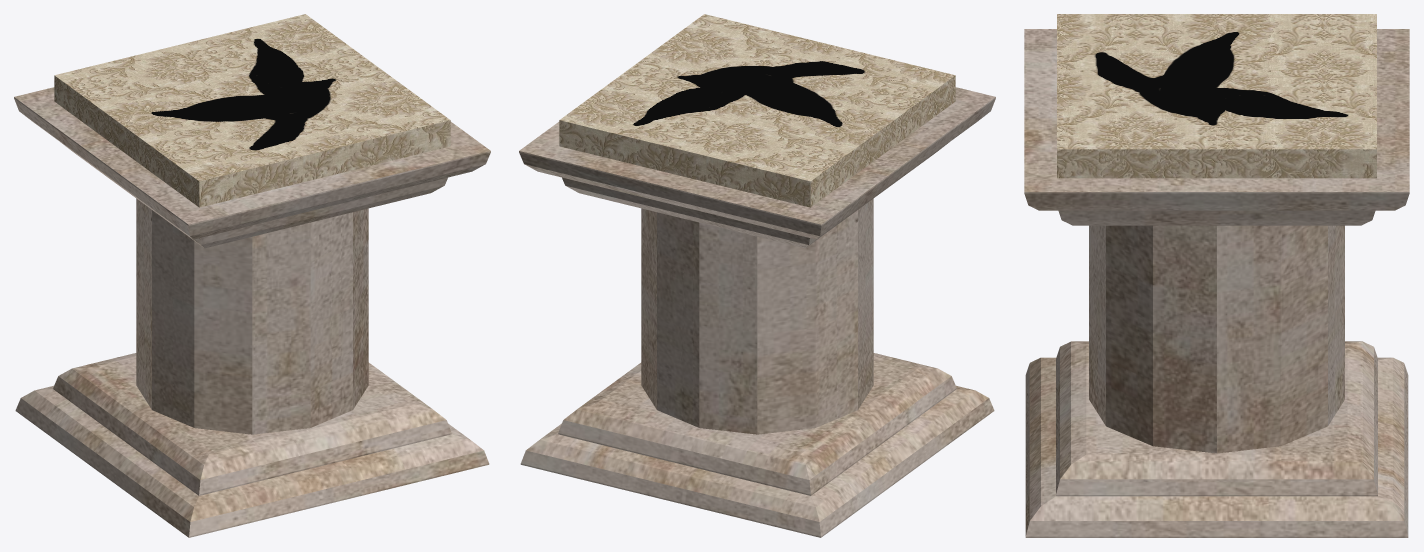
The model's file is stand_bird_2.fbx.
3 renders of one model, left to right at view 1: azimuth 30°, elevation 25°; view 2: azimuth 150°, elevation 25°; view 3: azimuth 270°, elevation 25°, orthographic. The views are drawn at different scales.
Visible parts, largest first — view 1: large_btn, small_btn; view 2: large_btn, small_btn; view 3: large_btn, small_btn.
Part boxes in pixels (x1=…): large_btn: x1=14, y1=87, x2=490, y2=537; small_btn: x1=54, y1=14, x2=450, y2=207; large_btn: x1=519, y1=87, x2=995, y2=537; small_btn: x1=559, y1=14, x2=955, y2=207; large_btn: x1=1024, y1=29, x2=1409, y2=537; small_btn: x1=1057, y1=14, x2=1376, y2=178.
Size of the model in its own units: 121 by 130 by 121.
